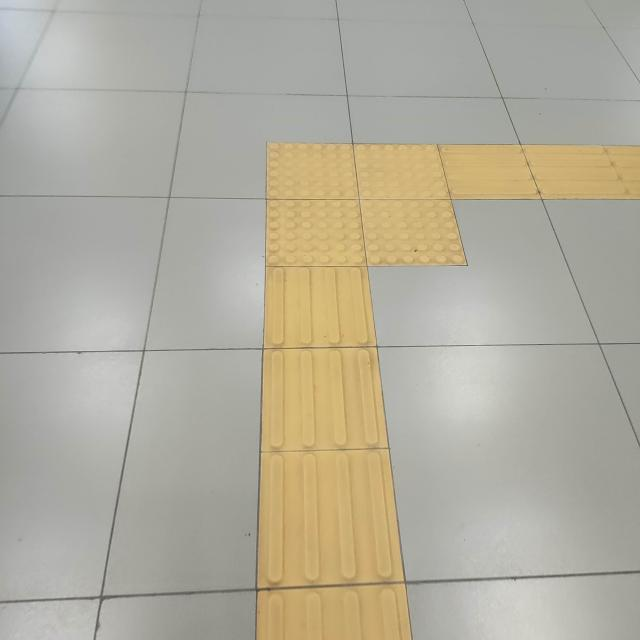kanan: (193, 96, 640, 328)
